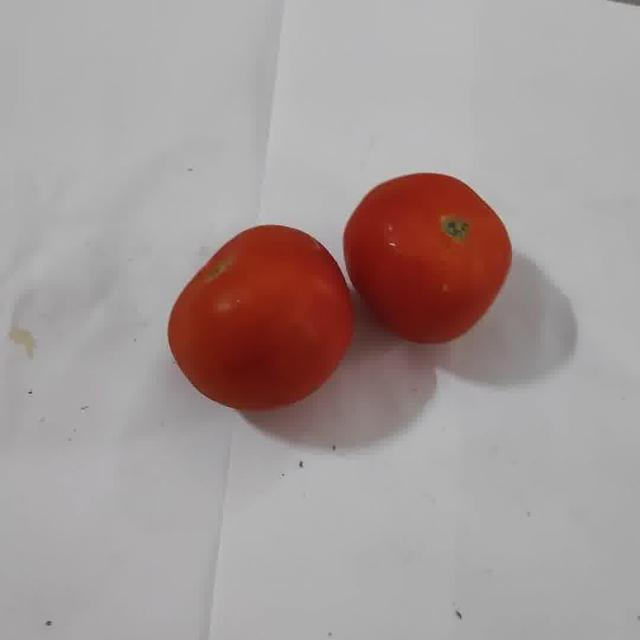Tomato: (343, 174, 511, 341)
